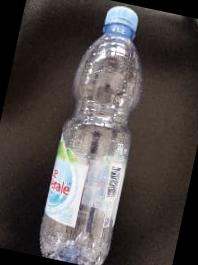Plastik: (41, 5, 141, 265)
